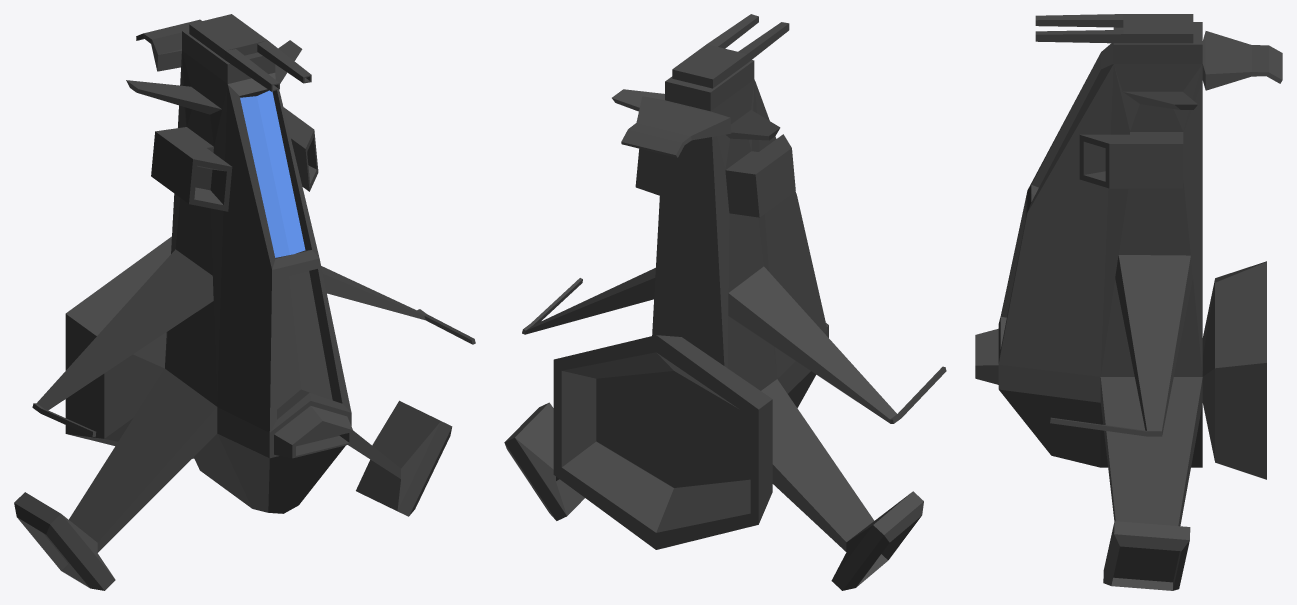
The model's file is AetherVoyager465.glb.
The picture shows the model from 3 angles, left to right: view 1: azimuth 30°, elevation 25°; view 2: azimuth 150°, elevation 25°; view 3: azimuth 270°, elevation 25°; orthographic projection. The views are drawn at different scales.
Visible parts, largest first — view 1: AetherVoyager465; view 2: AetherVoyager465; view 3: AetherVoyager465.
Boxes of the visible parts, x1,y1,x2,y2 form: AetherVoyager465: (14,14,475,590); AetherVoyager465: (504,14,946,590); AetherVoyager465: (975,14,1282,590).
Bounding box in the file's own units: 9.89 × 11.88 × 6.7.
Materials: 1 (1 with a texture image).
